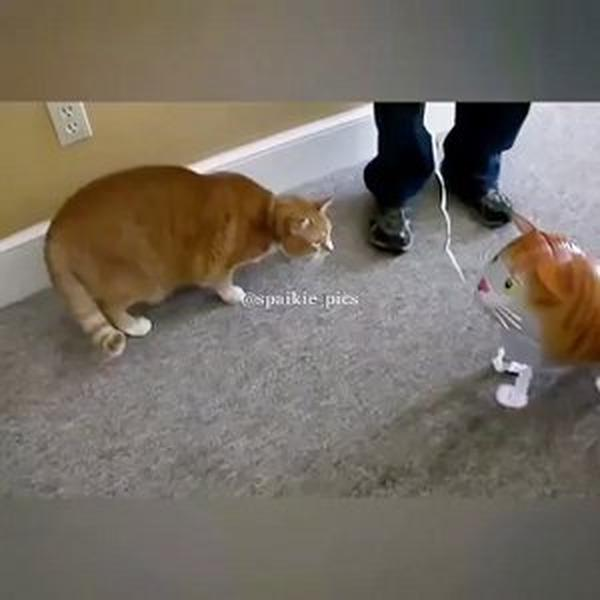michi: (21, 149, 342, 364)
